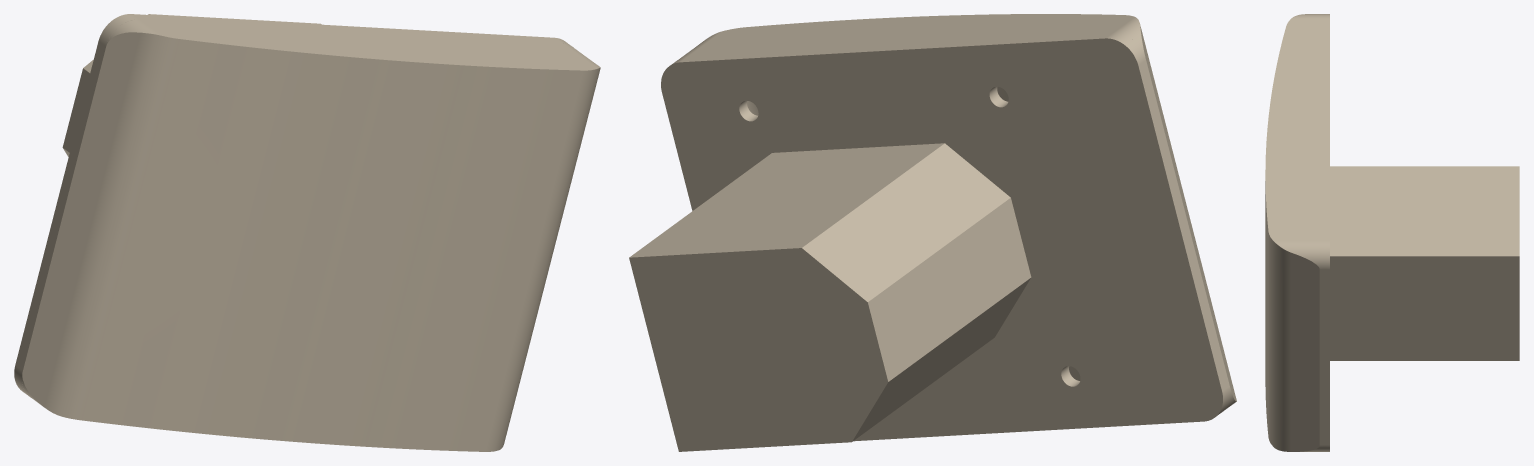
File: POWER ARCHITECTURE__SMARTPLUG INLET SYSTEM__50amp inlet.glb
3 views of the same model, side by side, from view 1: azimuth 30°, elevation 25°; view 2: azimuth 150°, elevation 25°; view 3: azimuth 270°, elevation 25° (orthographic). The views are drawn at different scales.
Size of the model in its own units: 0.1339 by 0.1112 by 0.0791.
